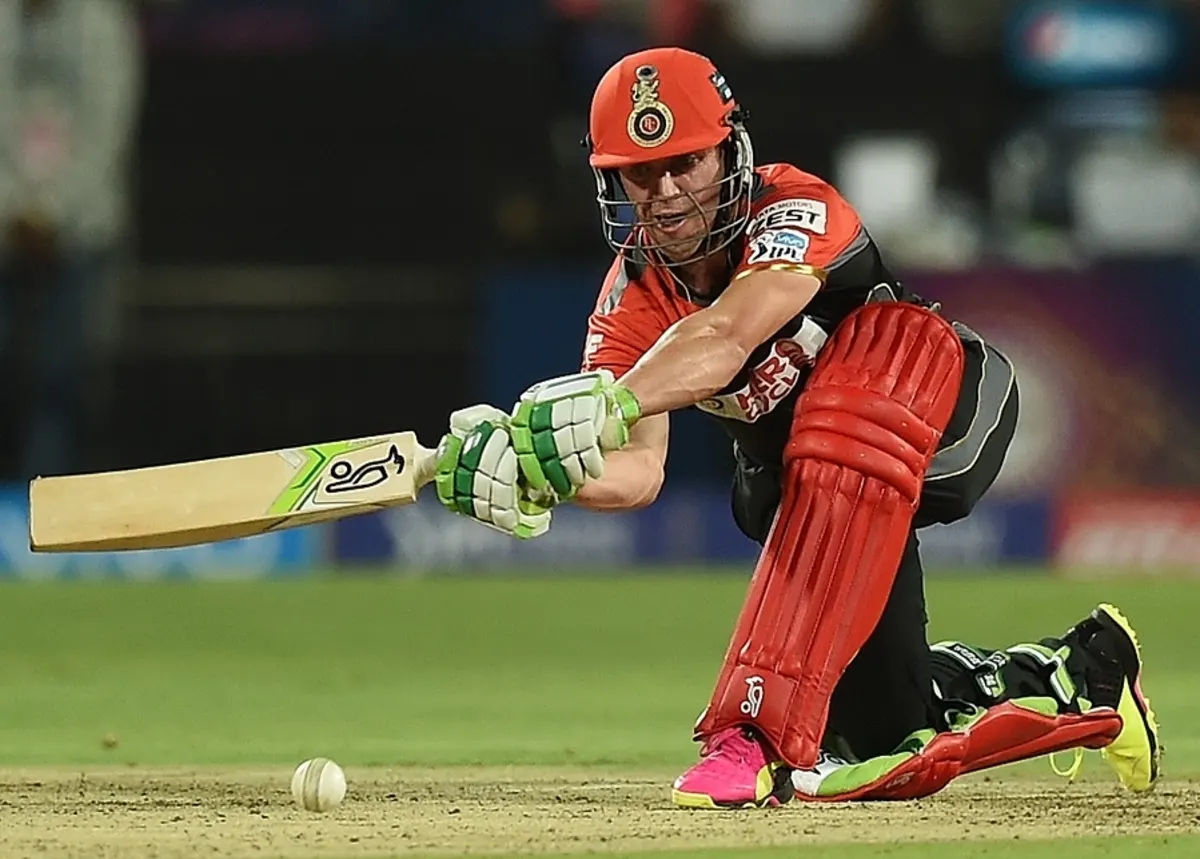Sweepshot: (13, 19, 1185, 859)
